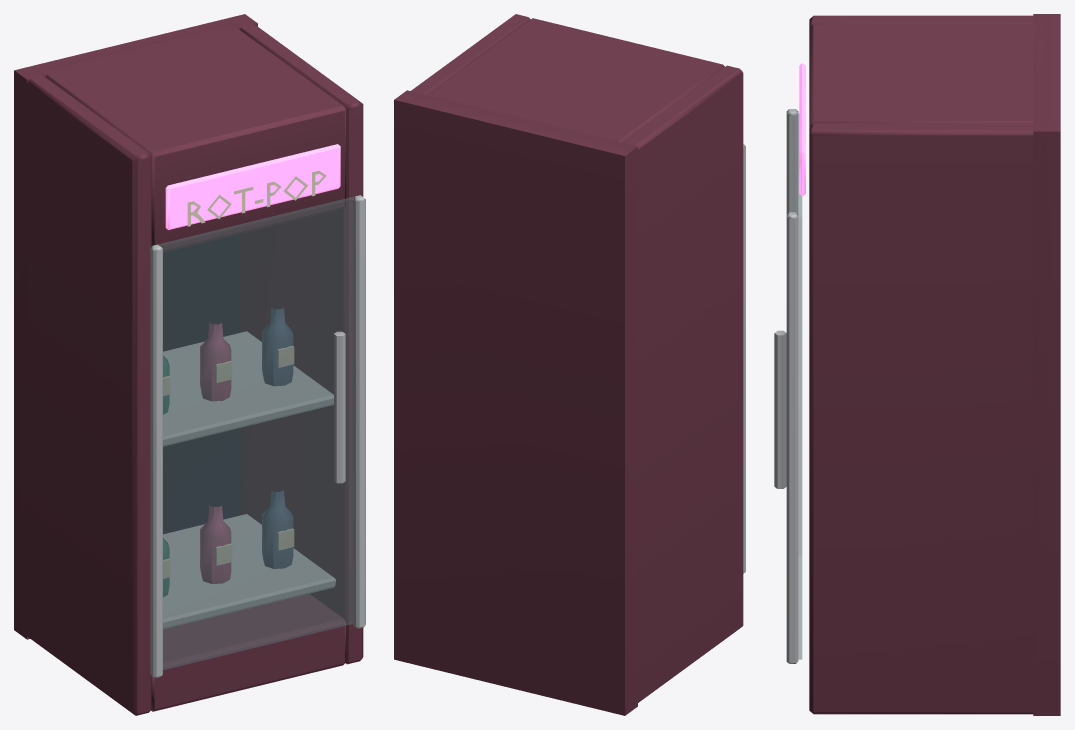
File: fridge_rotpop.glb
The picture shows the model from 3 angles, left to right: view 1: azimuth 30°, elevation 25°; view 2: azimuth 150°, elevation 25°; view 3: azimuth 270°, elevation 25°; orthographic projection. The views are drawn at different scales.
Parts seen in each view (by area): view 1: fridge_rotpop, door, glow, brand; view 2: fridge_rotpop, door; view 3: fridge_rotpop, door, glow.
Part boxes in pixels (x1,y1,x2,y2): fridge_rotpop: [14, 14, 363, 715]; door: [150, 195, 365, 678]; glow: [165, 144, 340, 229]; brand: [187, 170, 326, 226]; fridge_rotpop: [394, 14, 743, 715]; door: [743, 144, 745, 573]; fridge_rotpop: [809, 14, 1060, 715]; door: [774, 109, 802, 663]; glow: [799, 63, 805, 195].
Size of the model in its own units: 0.82 by 1.9 by 0.843.
